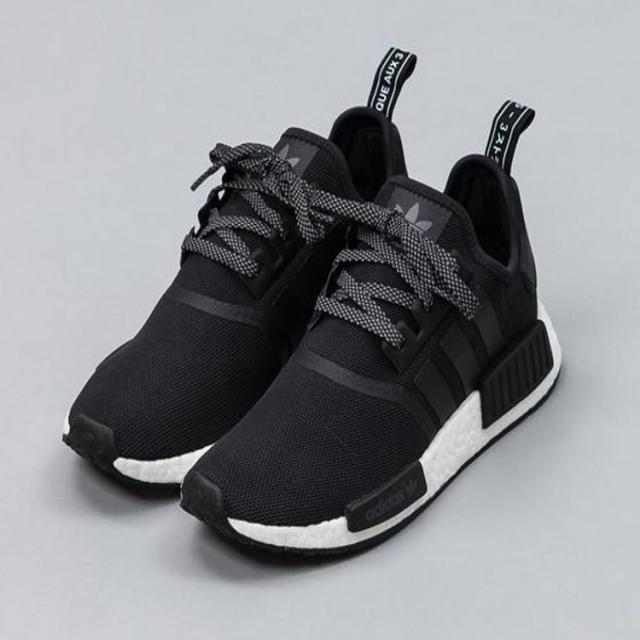shoe: (65, 44, 562, 562), (180, 104, 562, 562)
